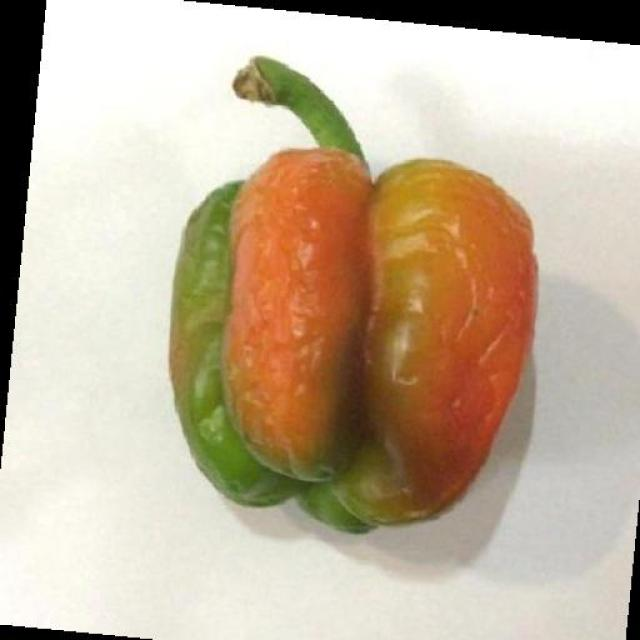Stale_Capsicum: (168, 123, 533, 535)
